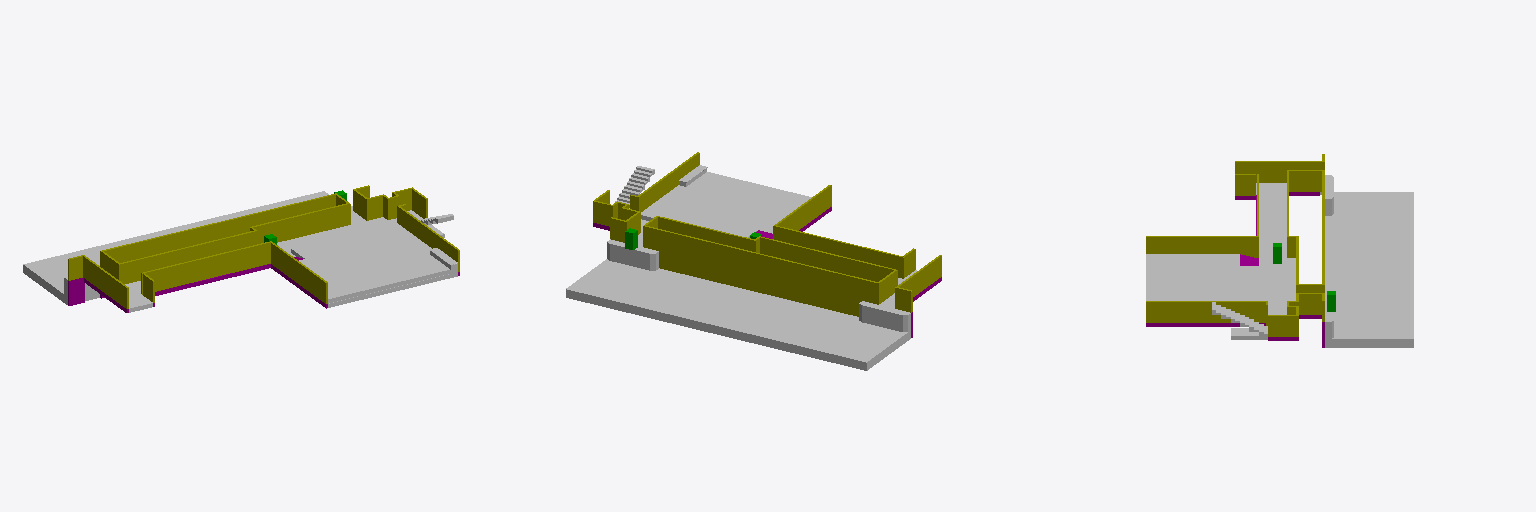
The model's file is chemistory-level.obj.
3 renders of one model, left to right at view 1: azimuth 30°, elevation 25°; view 2: azimuth 150°, elevation 25°; view 3: azimuth 270°, elevation 25°, orthographic.
Parts seen in each view (by area): view 1: Cube.018, Cube.043_Cube.050, Cube.039_Cube.046, Cube.035_Cube.038, Cube.070_Cube.008, Cube.069_Cube.003, Cube, Cube.008_Cube.040, Cube.051_Cube.063, Cube.046_Cube.056, Cube.020; view 2: Cube.039_Cube.046, Cube.043_Cube.050, Cube.018, Cube.070_Cube.008, Cube.035_Cube.038, Cube.069_Cube.003, Cube.037_Cube.042, Cube.008_Cube.040, Cube.051_Cube.063, Cube.038_Cube.043, Cube.046_Cube.056; view 3: Cube.039_Cube.046, Cube.018, Cube.051_Cube.063, Cube.008_Cube.040, Cube.007, Cube, Cube.046_Cube.056, Cube.020, Cube.045_Cube.055, Cube.076_Cube.029.
Part boxes in pixels (bbox=[...]): Cube.018: bbox=[296, 226, 450, 297]; Cube.043_Cube.050: bbox=[117, 197, 320, 262]; Cube.039_Cube.046: bbox=[23, 191, 328, 304]; Cube.035_Cube.038: bbox=[141, 242, 270, 294]; Cube.070_Cube.008: bbox=[120, 231, 255, 283]; Cube.069_Cube.003: bbox=[250, 203, 347, 243]; Cube: bbox=[277, 217, 457, 307]; Cube.008_Cube.040: bbox=[270, 241, 327, 303]; Cube.051_Cube.063: bbox=[397, 206, 459, 271]; Cube.046_Cube.056: bbox=[82, 255, 128, 308]; Cube.020: bbox=[299, 259, 351, 303]; Cube.039_Cube.046: bbox=[566, 259, 910, 370]; Cube.043_Cube.050: bbox=[659, 229, 862, 316]; Cube.018: bbox=[644, 172, 804, 237]; Cube.070_Cube.008: bbox=[760, 237, 894, 281]; Cube.035_Cube.038: bbox=[775, 226, 904, 278]; Cube.069_Cube.003: bbox=[658, 216, 756, 252]; Cube.037_Cube.042: bbox=[859, 301, 910, 331]; Cube.008_Cube.040: bbox=[773, 185, 831, 239]; Cube.051_Cube.063: bbox=[637, 152, 699, 211]; Cube.038_Cube.043: bbox=[607, 239, 658, 270]; Cube.046_Cube.056: bbox=[895, 255, 941, 308]; Cube.039_Cube.046: bbox=[1325, 192, 1413, 347]; Cube.018: bbox=[1146, 266, 1258, 300]; Cube.051_Cube.063: bbox=[1146, 301, 1267, 322]; Cube.008_Cube.040: bbox=[1146, 236, 1258, 257]; Cube.007: bbox=[1259, 195, 1286, 257]; Cube: bbox=[1259, 258, 1295, 314]; Cube.046_Cube.056: bbox=[1235, 161, 1324, 182]; Cube.020: bbox=[1146, 254, 1239, 265]; Cube.045_Cube.055: bbox=[1287, 170, 1324, 191]; Cube.076_Cube.029: bbox=[1268, 315, 1298, 336].
Size of the model in its own units: 81.5 by 12 by 57.1.